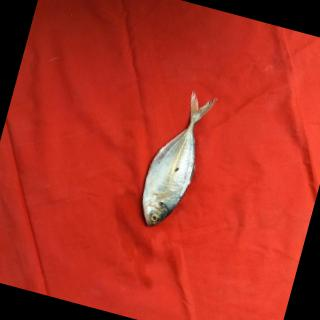Ikan: (132, 81, 234, 238)
